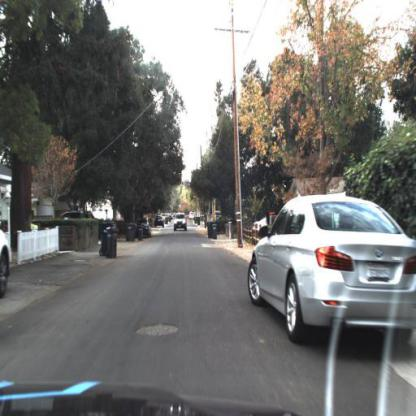car: (247, 187, 416, 341), (59, 208, 96, 231), (251, 215, 277, 238), (170, 214, 186, 232), (136, 217, 150, 237), (210, 211, 223, 224), (154, 216, 165, 230), (189, 211, 197, 222)
